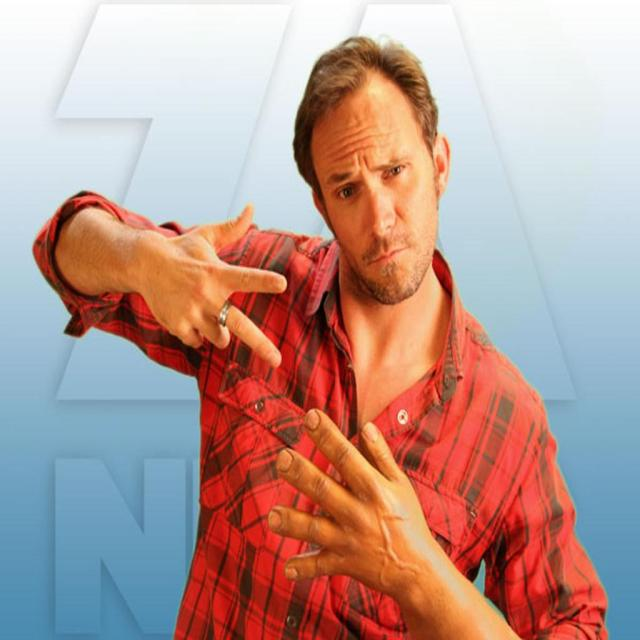nomask: (314, 87, 435, 298)
